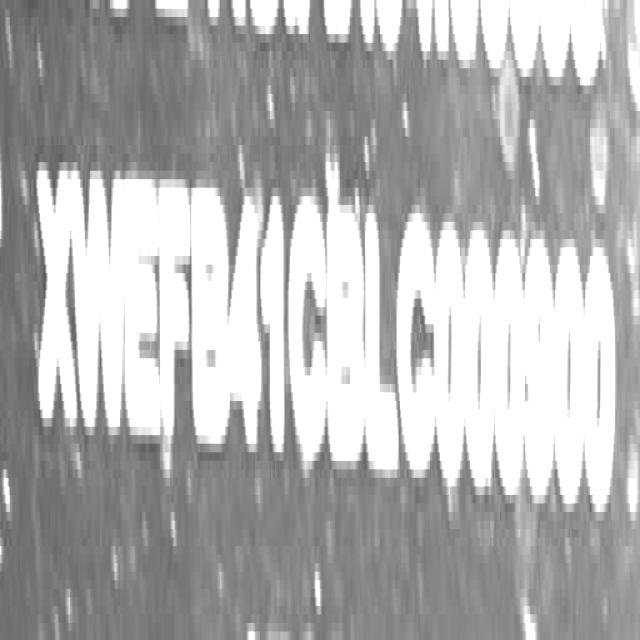0: (434, 199, 465, 503), (460, 217, 492, 503), (552, 237, 583, 517), (495, 227, 526, 505), (582, 246, 614, 512)
1: (262, 185, 288, 469)
4: (227, 180, 259, 463)
9: (524, 230, 555, 506)
B: (193, 173, 230, 462), (330, 189, 366, 482)
C: (292, 185, 331, 474), (400, 210, 440, 489)
E: (125, 173, 162, 450)
F: (160, 175, 193, 458)
L: (366, 198, 400, 483)
W: (75, 166, 127, 448)
X: (34, 151, 76, 440)
